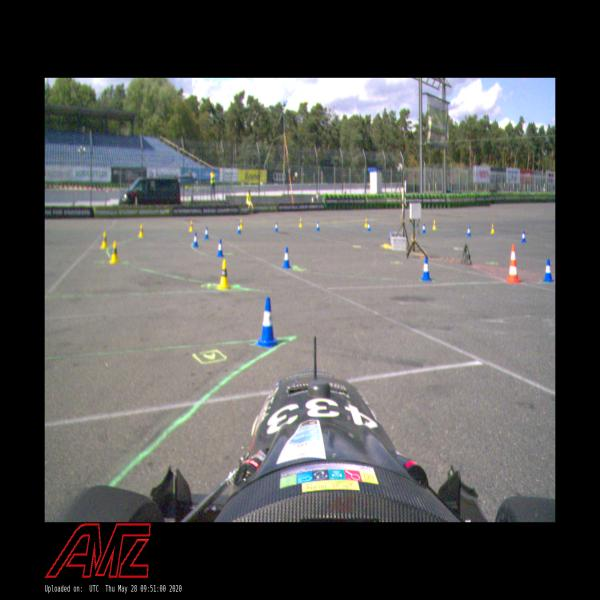blue_cone: (257, 298, 279, 348), (421, 256, 432, 282), (543, 259, 554, 282), (282, 248, 291, 268), (216, 239, 224, 257), (192, 232, 199, 247), (204, 226, 209, 240), (521, 230, 526, 242), (237, 223, 241, 234), (274, 222, 278, 232), (422, 224, 426, 234), (367, 222, 371, 231), (467, 226, 470, 236), (316, 221, 319, 231)
large_orange_cone: (507, 244, 520, 283)
yellow_cone: (216, 260, 230, 290), (109, 241, 120, 264), (100, 232, 108, 248), (138, 224, 144, 237), (189, 220, 194, 232), (491, 223, 495, 234), (432, 220, 436, 230), (298, 218, 302, 227), (364, 218, 368, 227), (240, 219, 243, 229)
